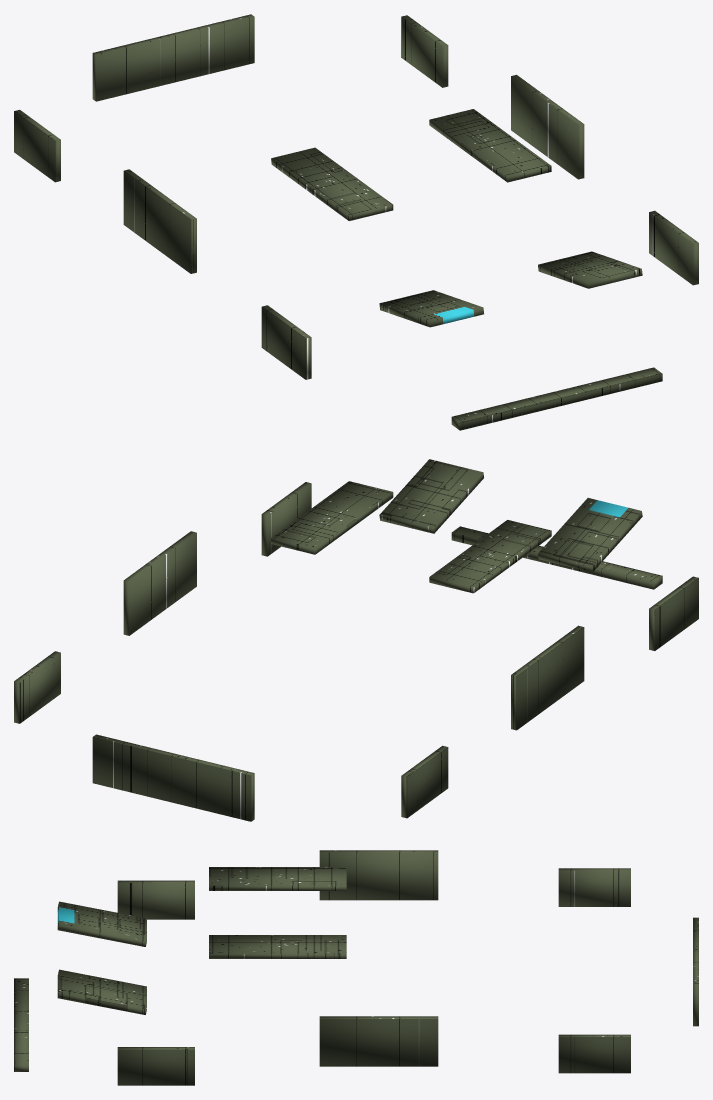
Rendered from medium_tank_team_body.obj.
3 views of the same model, one above another, from view 1: azimuth 30°, elevation 25°; view 2: azimuth 150°, elevation 25°; view 3: azimuth 270°, elevation 25° (orthographic). The views are drawn at different scales.
Parts seen in each view (by area): view 1: TeamColorPanels_Body; view 2: TeamColorPanels_Body; view 3: TeamColorPanels_Body.
Part boxes in pixels (x1,y1,x2,y2): TeamColorPanels_Body: (14, 14, 698, 430); TeamColorPanels_Body: (14, 459, 698, 821); TeamColorPanels_Body: (14, 850, 698, 1085).
Bounding box in the file's own units: 3.2 × 1.04 × 5.48.
